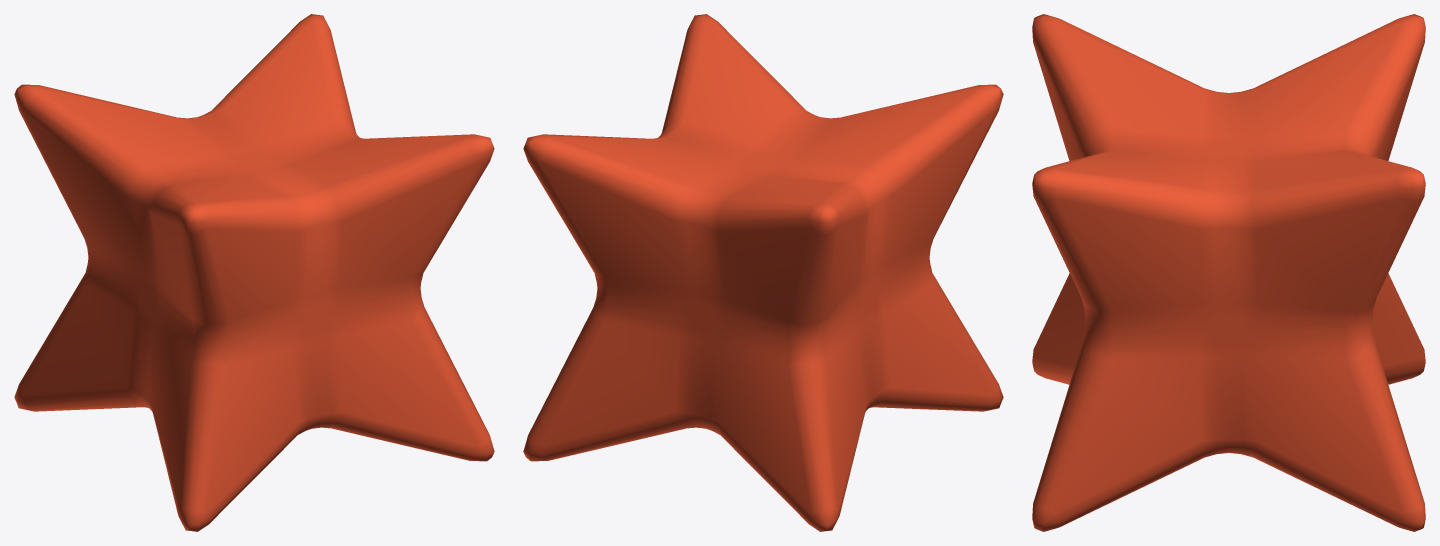
Rendered from yıldız1.fbx.
The picture shows the model from 3 angles, left to right: view 1: azimuth 30°, elevation 25°; view 2: azimuth 150°, elevation 25°; view 3: azimuth 270°, elevation 25°; orthographic projection. The views are drawn at different scales.
Visible parts, largest first — view 1: Cube; view 2: Cube; view 3: Cube.
Part boxes in pixels (x1,y1,x2,y2): Cube: (14, 14, 494, 531); Cube: (523, 14, 1003, 531); Cube: (1032, 14, 1425, 531).
Size of the model in its own units: 175 by 175 by 175.
